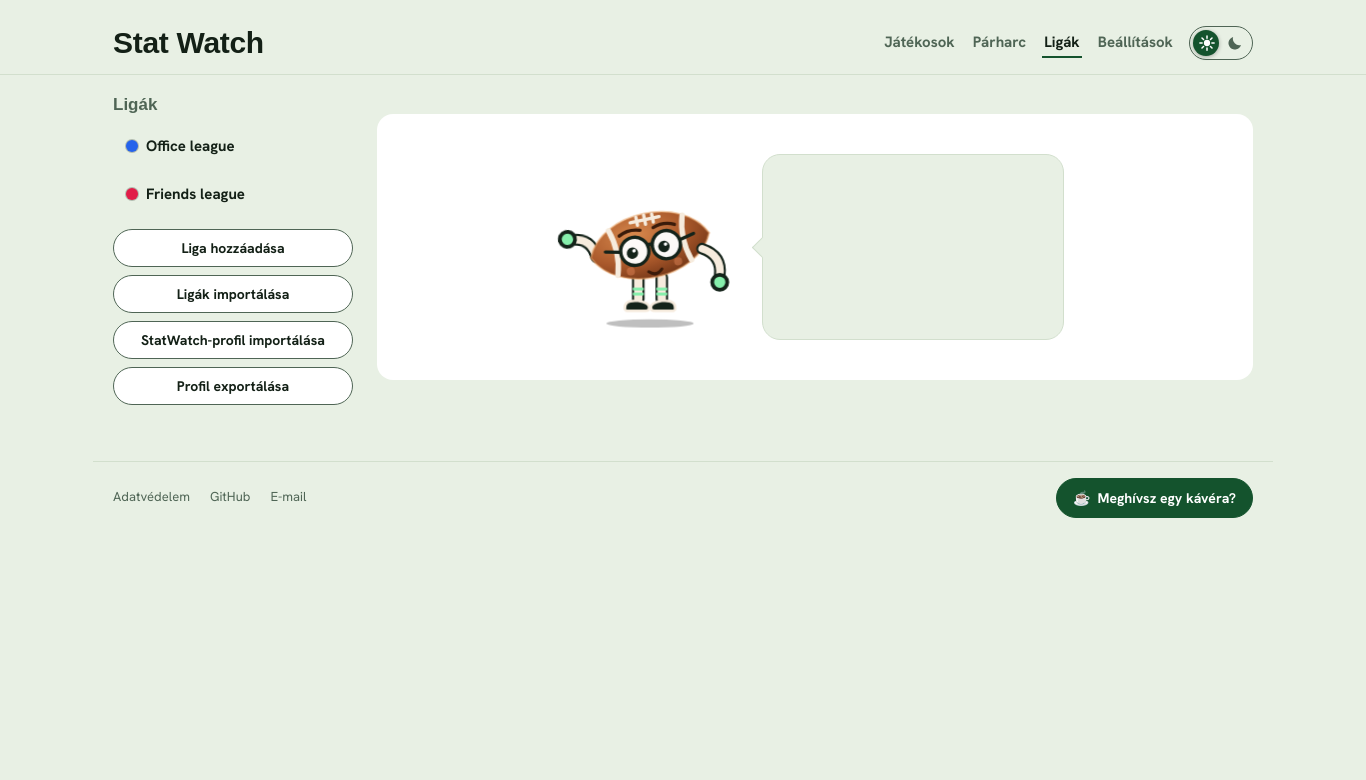
Test case: Leagues in Hungarian › shows the page, its menu and a league form in Hungarian
expect the heading "Ligák" is shown: met, box [113,95,157,114]
expect the button "Liga hozzáadása" is shown: met, box [113,228,353,266]
Click the button "Office league".
click(233, 147)  # box [113,125,353,169]
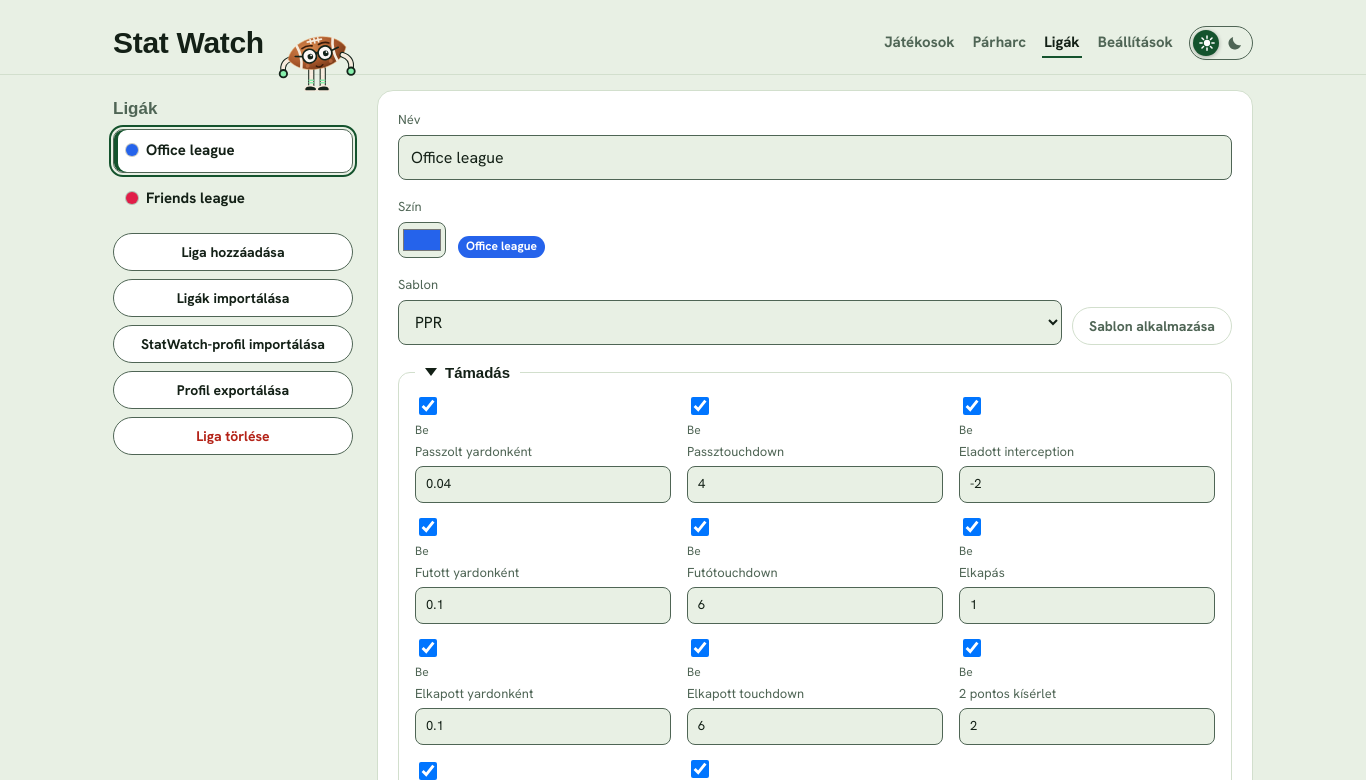
expect the dropdown labelled "Sablon" is shown: met, box [398,300,1062,345]
expect the button "Sablon alkalmazása" is shown: met, box [1072,307,1232,345]
expect the button "Támadás" is shown: met, box [421,363,514,382]
